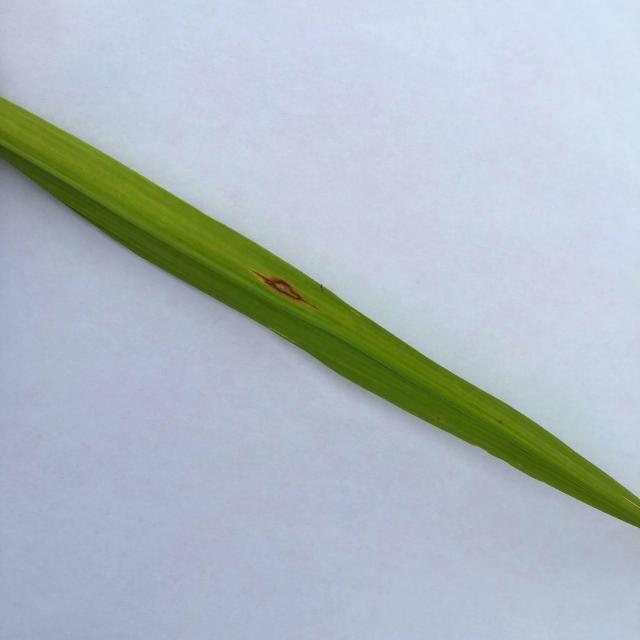Blast: (256, 270, 309, 307)
